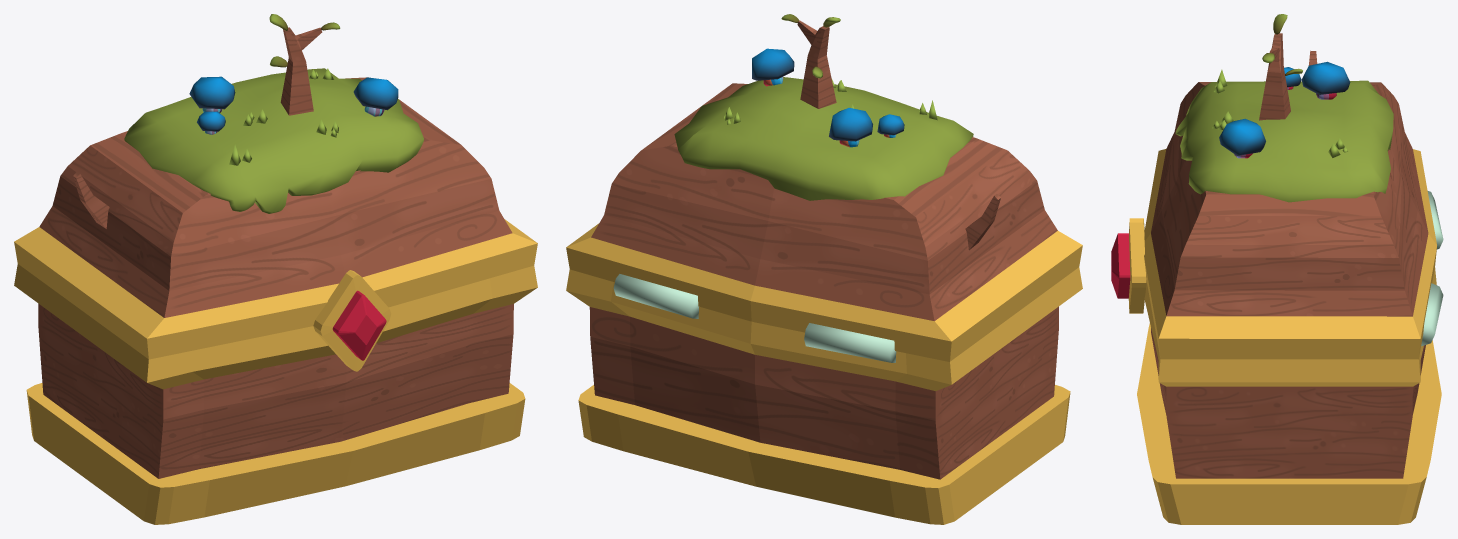
File: chest.fbx
3 renders of one model, left to right at view 1: azimuth 30°, elevation 25°; view 2: azimuth 150°, elevation 25°; view 3: azimuth 270°, elevation 25°, orthographic.
Visible parts, largest first — view 1: Mushroom1.004, Cube; view 2: Mushroom1.004, Cube; view 3: Mushroom1.004, Cube.
Boxes of the visible parts, bbox=[...] form: Mushroom1.004: bbox=[14, 14, 537, 371]; Cube: bbox=[14, 264, 537, 524]; Mushroom1.004: bbox=[566, 14, 1082, 361]; Cube: bbox=[566, 267, 1082, 524]; Mushroom1.004: bbox=[1111, 14, 1436, 359]; Cube: bbox=[1137, 191, 1443, 524].
Size of the model in its own units: 420 by 435 by 313.
